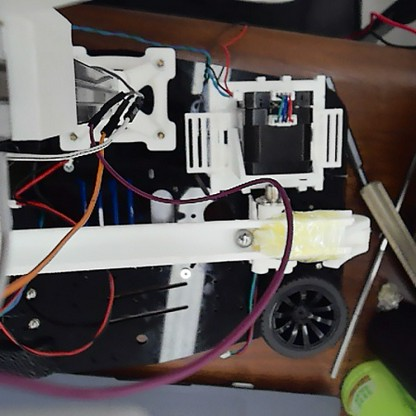ironball: (231, 225, 254, 249)
